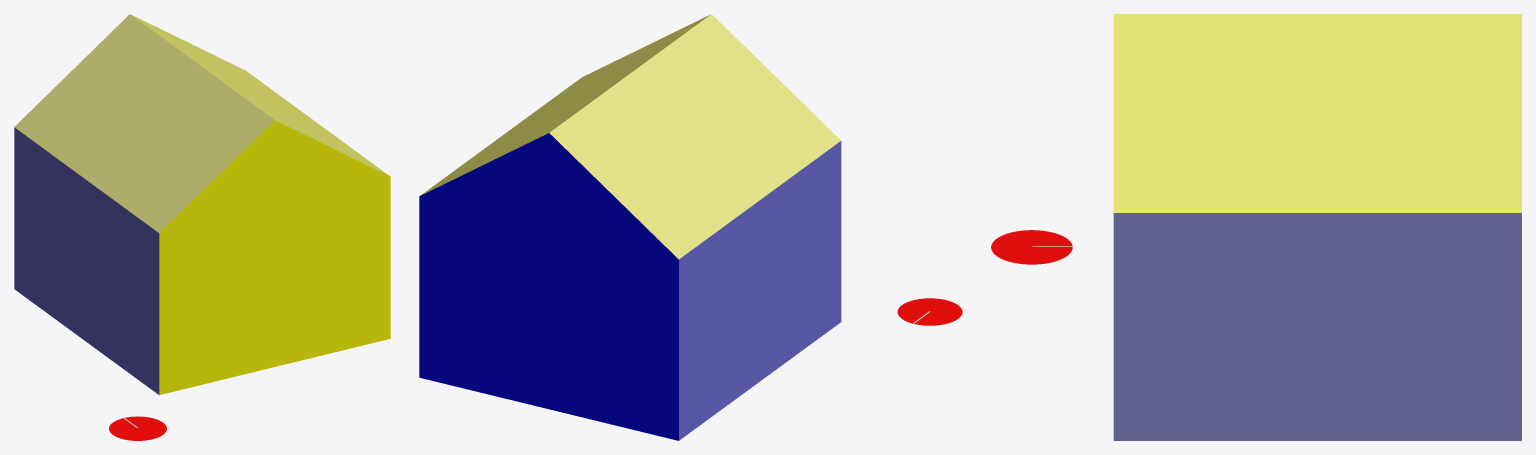
The model's file is result.glb.
3 renders of one model, left to right at view 1: azimuth 30°, elevation 25°; view 2: azimuth 150°, elevation 25°; view 3: azimuth 270°, elevation 25°, orthographic. The views are drawn at different scales.
Parts seen in each view (by area): view 1: 37ad6b9f-71f3-4e5b-8f9c-f6cb173a238d__undefined, 3aa5fd1b-ae25-46f7-b30e-b2a3cee80dd1__undefined, eb2ea6ba-fa51-4349-9817-266a9da6243e__undefined, c4b137cb-dc12-474b-a41c-7f0ee86edac4__undefined, f5cc5e22-605a-451a-8863-001c2b3fc2b2__Circle; view 2: 2349090d-b2a1-40d0-a9ff-aa93365ce872__undefined, 3aa5fd1b-ae25-46f7-b30e-b2a3cee80dd1__undefined, eb2ea6ba-fa51-4349-9817-266a9da6243e__undefined, c4b137cb-dc12-474b-a41c-7f0ee86edac4__undefined, f5cc5e22-605a-451a-8863-001c2b3fc2b2__Circle; view 3: 329336fd-401e-420f-8b48-800a4fa9d28b__undefined, c4b137cb-dc12-474b-a41c-7f0ee86edac4__undefined, f5cc5e22-605a-451a-8863-001c2b3fc2b2__Circle.
Part boxes in pixels (box(x1,y1,x2,y2)): 37ad6b9f-71f3-4e5b-8f9c-f6cb173a238d__undefined: box(159, 120, 390, 394); 3aa5fd1b-ae25-46f7-b30e-b2a3cee80dd1__undefined: box(14, 14, 274, 232); eb2ea6ba-fa51-4349-9817-266a9da6243e__undefined: box(14, 127, 159, 394); c4b137cb-dc12-474b-a41c-7f0ee86edac4__undefined: box(131, 14, 389, 175); f5cc5e22-605a-451a-8863-001c2b3fc2b2__Circle: box(109, 416, 166, 440); 2349090d-b2a1-40d0-a9ff-aa93365ce872__undefined: box(419, 133, 678, 440); 3aa5fd1b-ae25-46f7-b30e-b2a3cee80dd1__undefined: box(549, 14, 840, 259); eb2ea6ba-fa51-4349-9817-266a9da6243e__undefined: box(679, 141, 841, 440); c4b137cb-dc12-474b-a41c-7f0ee86edac4__undefined: box(420, 14, 710, 195); f5cc5e22-605a-451a-8863-001c2b3fc2b2__Circle: box(897, 298, 962, 325); 329336fd-401e-420f-8b48-800a4fa9d28b__undefined: box(1113, 213, 1521, 440); c4b137cb-dc12-474b-a41c-7f0ee86edac4__undefined: box(1113, 14, 1521, 212); f5cc5e22-605a-451a-8863-001c2b3fc2b2__Circle: box(991, 230, 1072, 264).
Size of the model in its own units: 611 by 469 by 650.
